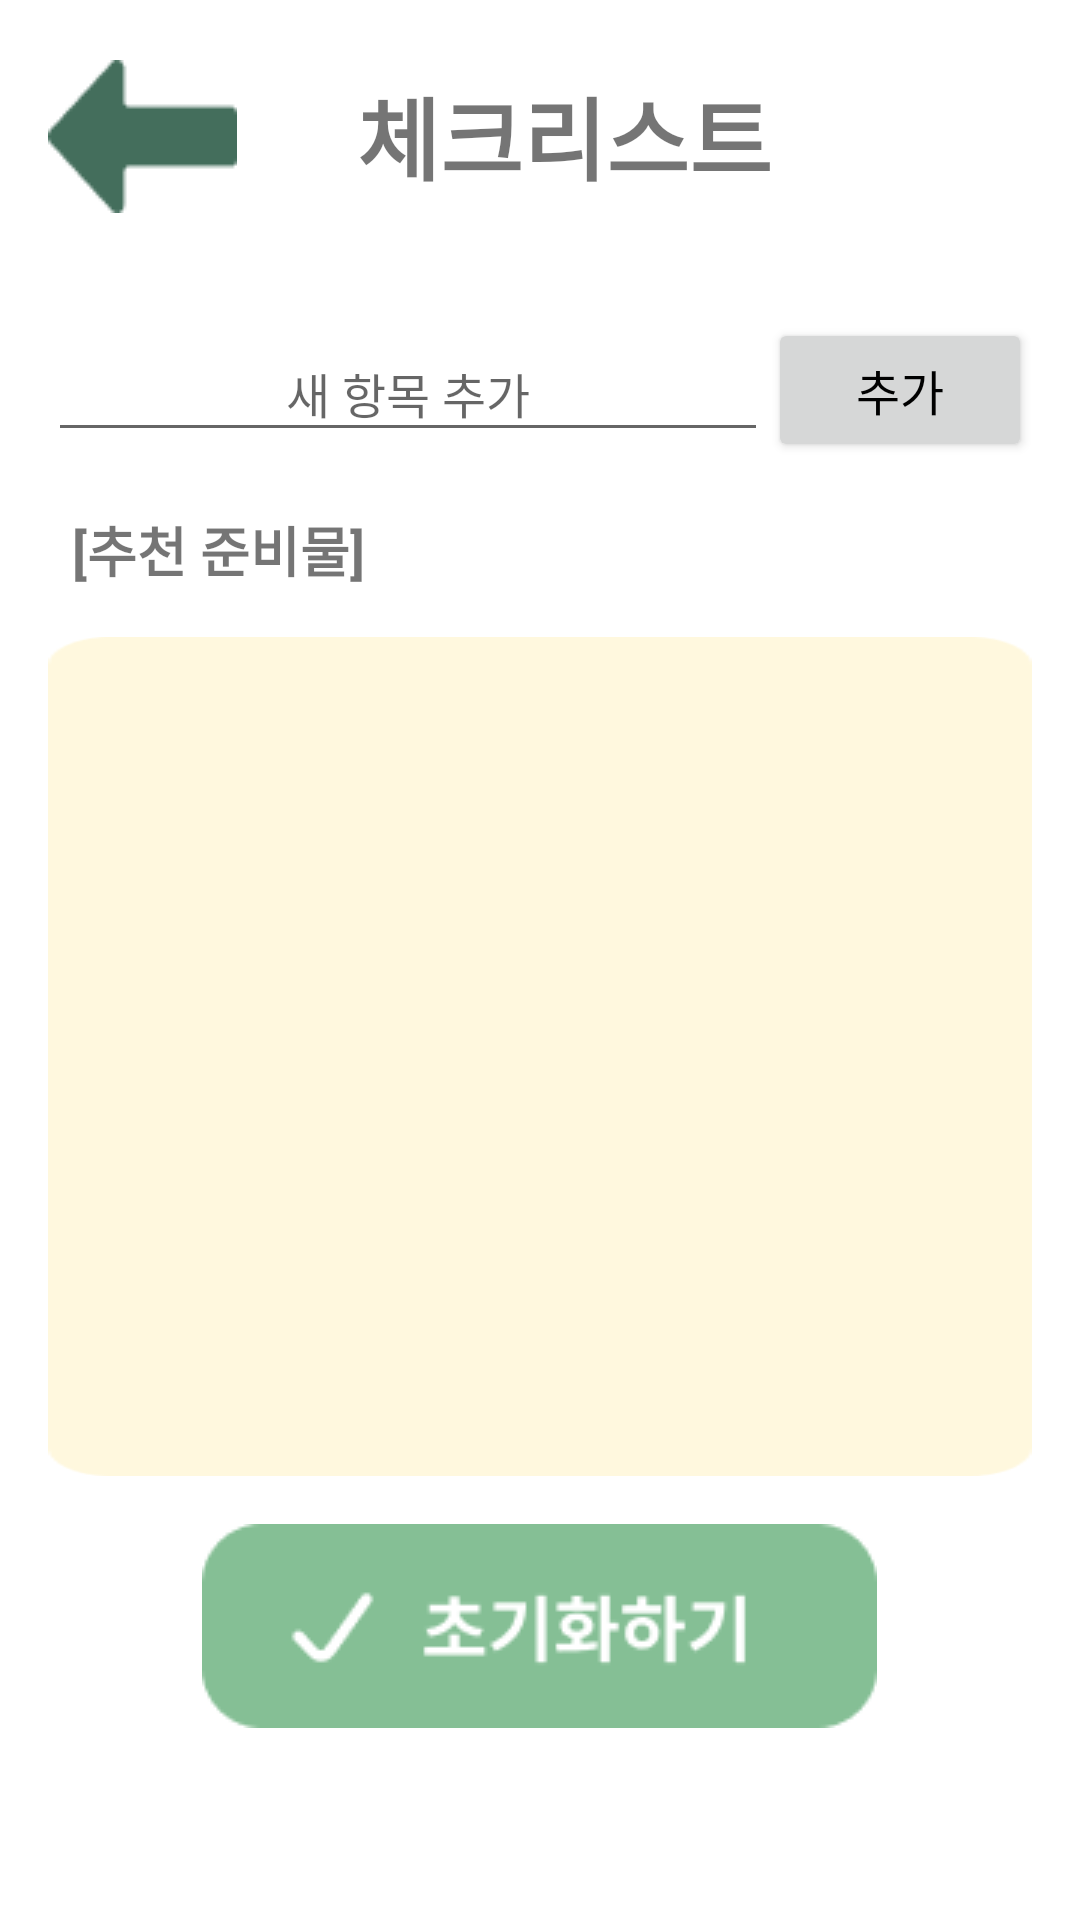

Icons on this 1080*1920 Android screen, each with its box as (x1=x1, y1=y1, x2=x2, y2=y2):
back 버튼: (x1=48, y1=60, x2=237, y2=213)
